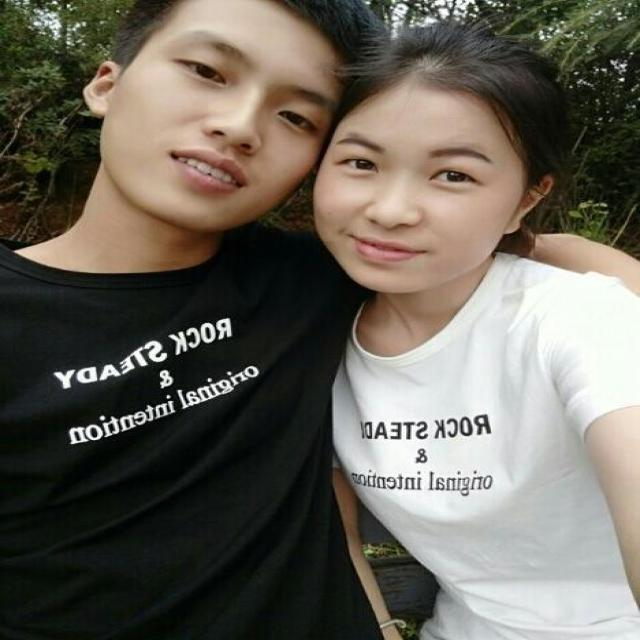short-sleeve-top: (299, 276, 640, 581)
